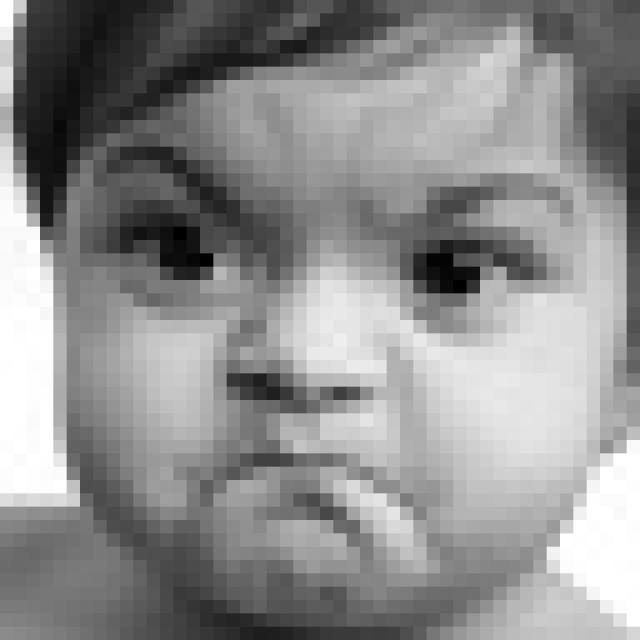angry: (89, 132, 596, 550)
